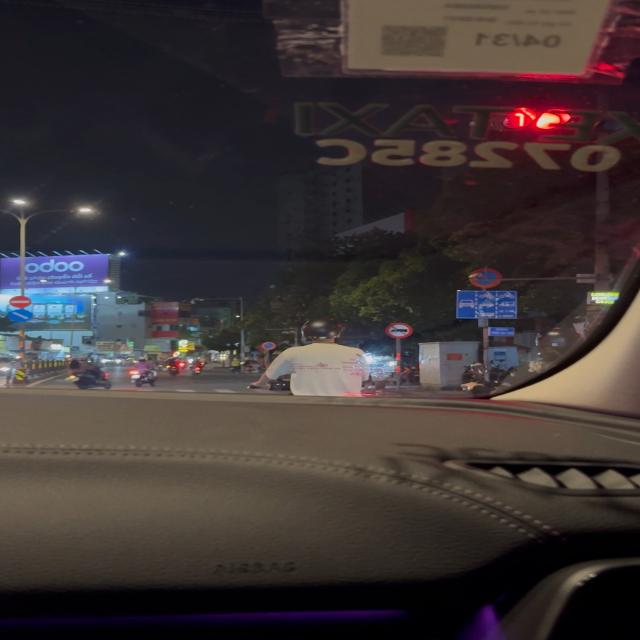Bien bao cam do xe: (260, 341, 278, 351)
Bien bao cam xe so-mi ro-mooc: (382, 322, 416, 341)
